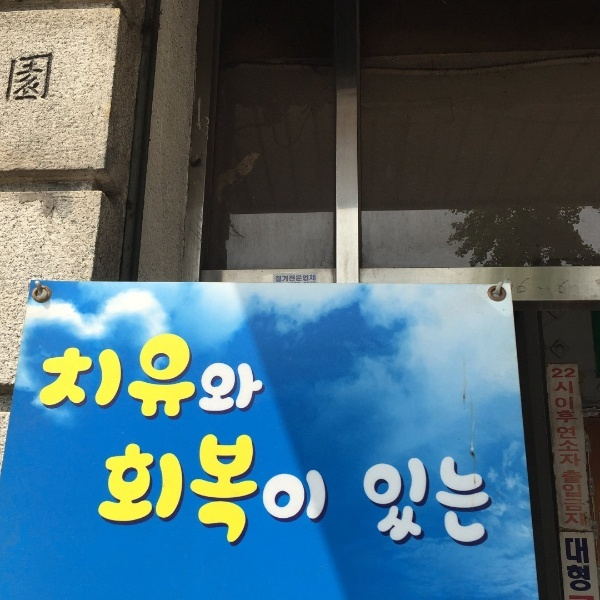text: (113, 429, 128, 553), (129, 429, 144, 553), (145, 429, 160, 553), (161, 429, 176, 553), (177, 429, 192, 553), (193, 429, 208, 553), (209, 429, 224, 553), (225, 429, 240, 553), (241, 429, 256, 553), (257, 429, 272, 553), (273, 429, 288, 553), (289, 429, 304, 553), (305, 429, 320, 553), (561, 368, 576, 471), (49, 327, 64, 423), (65, 327, 80, 423), (81, 327, 96, 423), (97, 327, 112, 423), (113, 327, 128, 423), (129, 327, 144, 423), (145, 327, 160, 423), (161, 327, 176, 423), (177, 327, 192, 423), (193, 327, 208, 423), (209, 327, 224, 423), (225, 327, 240, 423), (241, 327, 256, 423), (369, 454, 384, 549), (385, 454, 400, 549), (401, 454, 416, 549), (417, 454, 432, 549), (433, 454, 448, 549), (449, 454, 464, 549), (465, 454, 480, 549), (481, 454, 496, 549), (321, 429, 332, 553), (356, 454, 368, 549), (257, 327, 268, 423), (104, 429, 112, 553), (551, 368, 560, 471), (561, 469, 576, 530), (17, 47, 32, 105), (33, 47, 48, 105), (577, 538, 592, 592), (577, 469, 588, 530), (497, 454, 504, 549), (565, 538, 576, 592), (577, 368, 582, 471), (10, 47, 16, 105), (49, 47, 55, 105), (289, 274, 304, 283), (275, 274, 288, 283), (305, 274, 317, 283), (47, 327, 48, 423), (559, 469, 560, 530)
